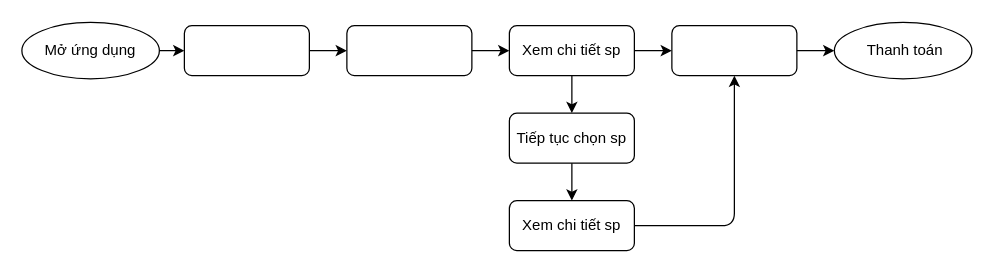
Image size: 994x273. Some labels were removed from this diagram. Here are the shapes that lost their labels. From the top down, the box of each, then its label:
(183, 24, 309, 76): Đăng nhập
(346, 24, 472, 76): Chọn sản phẩm
(671, 24, 797, 76): Thêm vào giỏ
